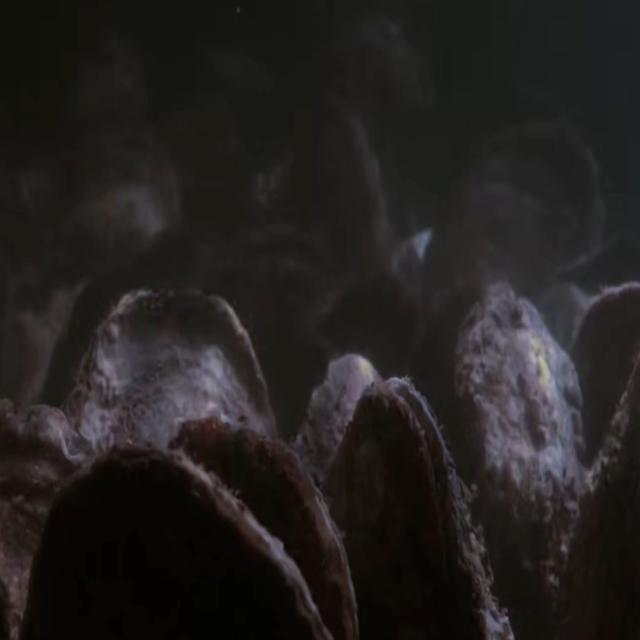Oyster-Closed: (23, 446, 331, 640), (166, 414, 357, 640), (0, 394, 97, 639)
Oyster-Indeterminate: (58, 283, 277, 640), (445, 283, 590, 640), (418, 113, 608, 340), (292, 351, 383, 640), (279, 87, 400, 288), (57, 140, 184, 260), (568, 280, 640, 481)
Oyster-Open: (321, 375, 515, 640), (203, 216, 339, 304)
